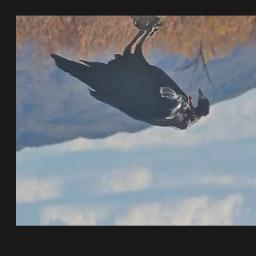Crow: (48, 18, 211, 132)
